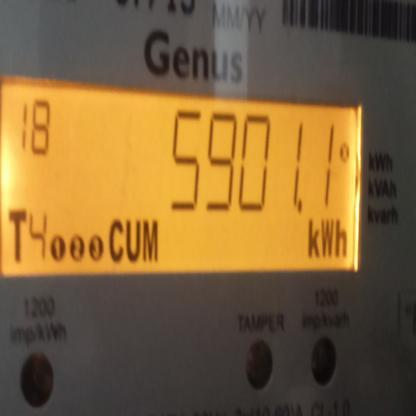.: (303, 216, 350, 264)
0: (297, 199, 305, 215)
1: (237, 114, 273, 215)
2: (289, 120, 308, 210), (318, 119, 336, 211)
6: (166, 107, 206, 213)
:: (207, 109, 237, 216)
